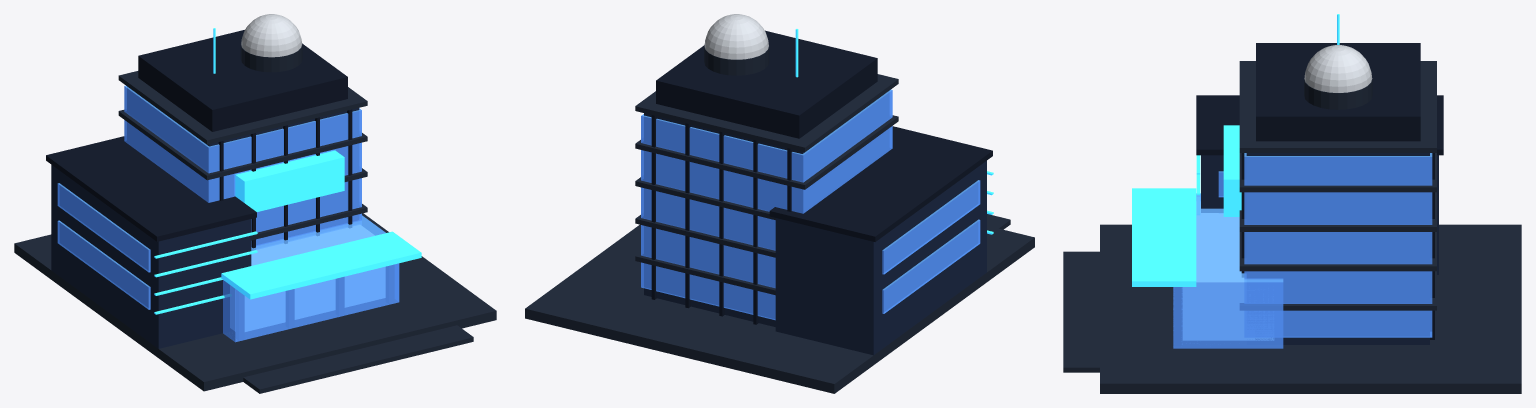
The model's file is tsc.glb.
3 renders of one model, left to right at view 1: azimuth 30°, elevation 25°; view 2: azimuth 150°, elevation 25°; view 3: azimuth 270°, elevation 25°, orthographic. The views are drawn at different scales.
Parts seen in each view (by area): view 1: TSC_ResearchWing, TSC_EntrancePodium, TSC_RooftopCrown, TSC_MainTower_GlassFacets, TSC_MainTower_Core, TSC_ResearchWing_Roof, TSC_GlassLobby, TSC_EntranceCanopy, TSC_LobbyInteriorGlow, TSC_PodiumStairs, TSC_ProjectingBay_L4, TSC_FloorBand_5 (+7 smaller); view 2: TSC_MainTower_GlassFacets, TSC_ResearchWing, TSC_EntrancePodium, TSC_MainTower_Core, TSC_RooftopCrown, TSC_ResearchWing_Roof, TSC_FloorBand_5, TSC_ResearchWing_RibbonGlass2, TSC_ResearchWing_RibbonGlass, TSC_Observatory_Dome, TSC_FloorBand_4, TSC_Observatory_Drum (+7 smaller); view 3: TSC_EntrancePodium, TSC_MainTower_GlassFacets, TSC_MainTower_Core, TSC_RooftopCrown, TSC_GlassLobby, TSC_EntranceCanopy, TSC_LobbyInteriorGlow, TSC_FloorBand_5, TSC_PodiumStairs, TSC_ResearchWing_Roof, TSC_Observatory_Dome, TSC_FloorBand_2 (+8 smaller).
Part boxes in pixels (x1,y1,x2,y2): TSC_ResearchWing: [51, 165, 251, 348]; TSC_EntrancePodium: [14, 213, 496, 391]; TSC_RooftopCrown: [138, 30, 347, 131]; TSC_MainTower_GlassFacets: [124, 85, 361, 246]; TSC_MainTower_Core: [127, 87, 359, 244]; TSC_ResearchWing_Roof: [46, 136, 256, 241]; TSC_GlassLobby: [223, 215, 399, 342]; TSC_EntranceCanopy: [221, 231, 421, 299]; TSC_LobbyInteriorGlow: [230, 225, 384, 331]; TSC_PodiumStairs: [243, 325, 473, 393]; TSC_ProjectingBay_L4: [235, 150, 344, 211]; TSC_FloorBand_5: [118, 71, 367, 144]; TSC_MainTower_GlassFacets: [641, 89, 892, 320]; TSC_ResearchWing: [775, 161, 986, 355]; TSC_EntrancePodium: [525, 224, 1034, 393]; TSC_MainTower_Core: [644, 92, 888, 326]; TSC_RooftopCrown: [656, 30, 877, 138]; TSC_ResearchWing_Roof: [769, 126, 992, 241]; TSC_FloorBand_5: [635, 74, 898, 152]; TSC_ResearchWing_RibbonGlass2: [882, 180, 980, 274]; TSC_ResearchWing_RibbonGlass: [882, 219, 980, 313]; TSC_Observatory_Dome: [704, 14, 768, 59]; TSC_FloorBand_4: [635, 115, 898, 189]; TSC_Observatory_Drum: [704, 45, 769, 75]; TSC_EntrancePodium: [1100, 224, 1521, 393]; TSC_MainTower_GlassFacets: [1244, 153, 1432, 337]; TSC_MainTower_Core: [1246, 153, 1429, 344]; TSC_RooftopCrown: [1256, 43, 1420, 141]; TSC_GlassLobby: [1173, 193, 1283, 348]; TSC_EntranceCanopy: [1132, 188, 1196, 286]; TSC_LobbyInteriorGlow: [1183, 213, 1272, 339]; TSC_FloorBand_5: [1239, 61, 1436, 152]; TSC_PodiumStairs: [1063, 251, 1099, 372]; TSC_ResearchWing_Roof: [1196, 95, 1443, 155]; TSC_Observatory_Dome: [1304, 45, 1372, 92]; TSC_FloorBand_2: [1239, 232, 1436, 271].
Bounding box in the file's own units: 8.32 × 6.85 × 10.
